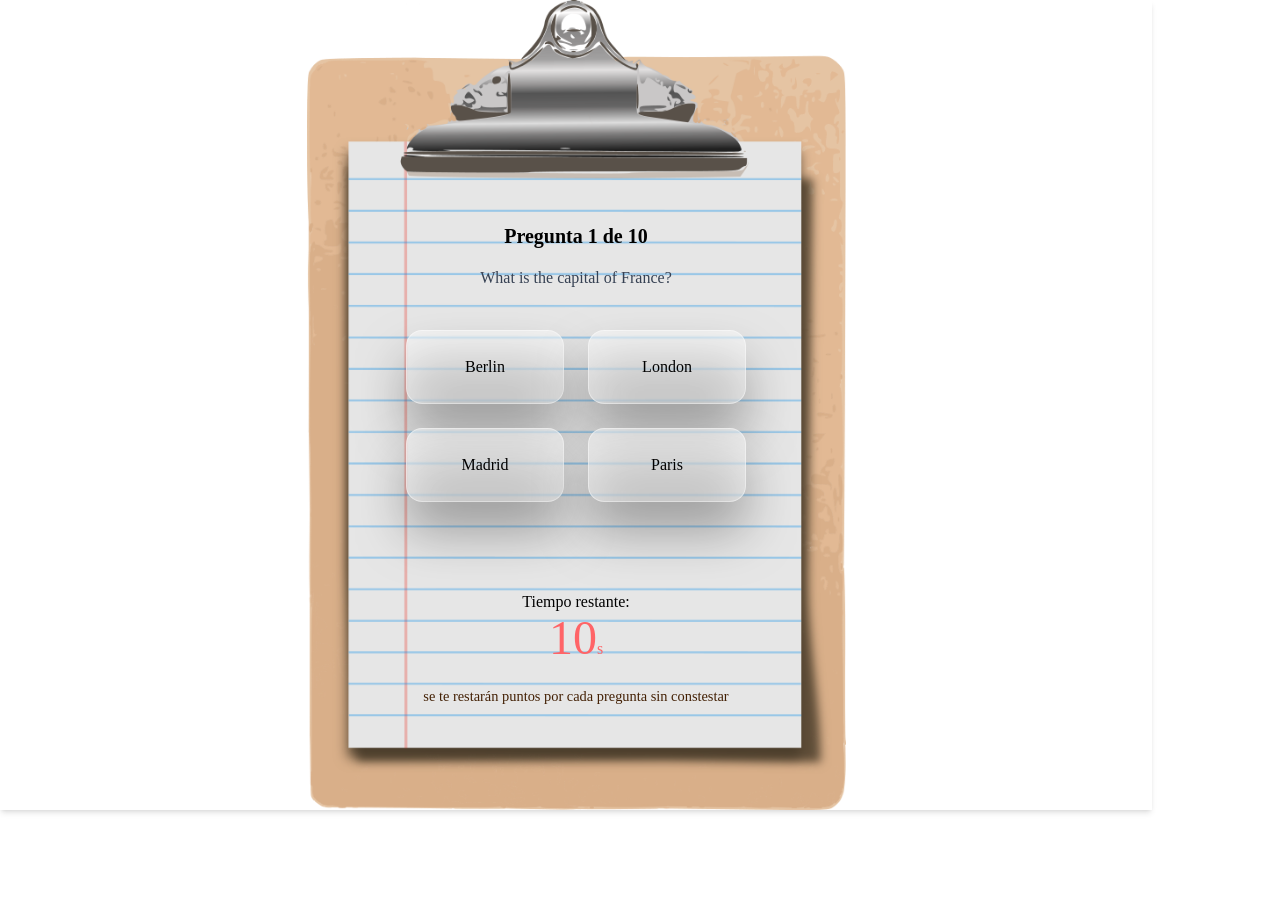
Test: QuizCard › disables buttons after an option is selected
This screenshot has width=1280, height=900.
Click the button "Paris" at (667, 465), box [588,428,746,502]
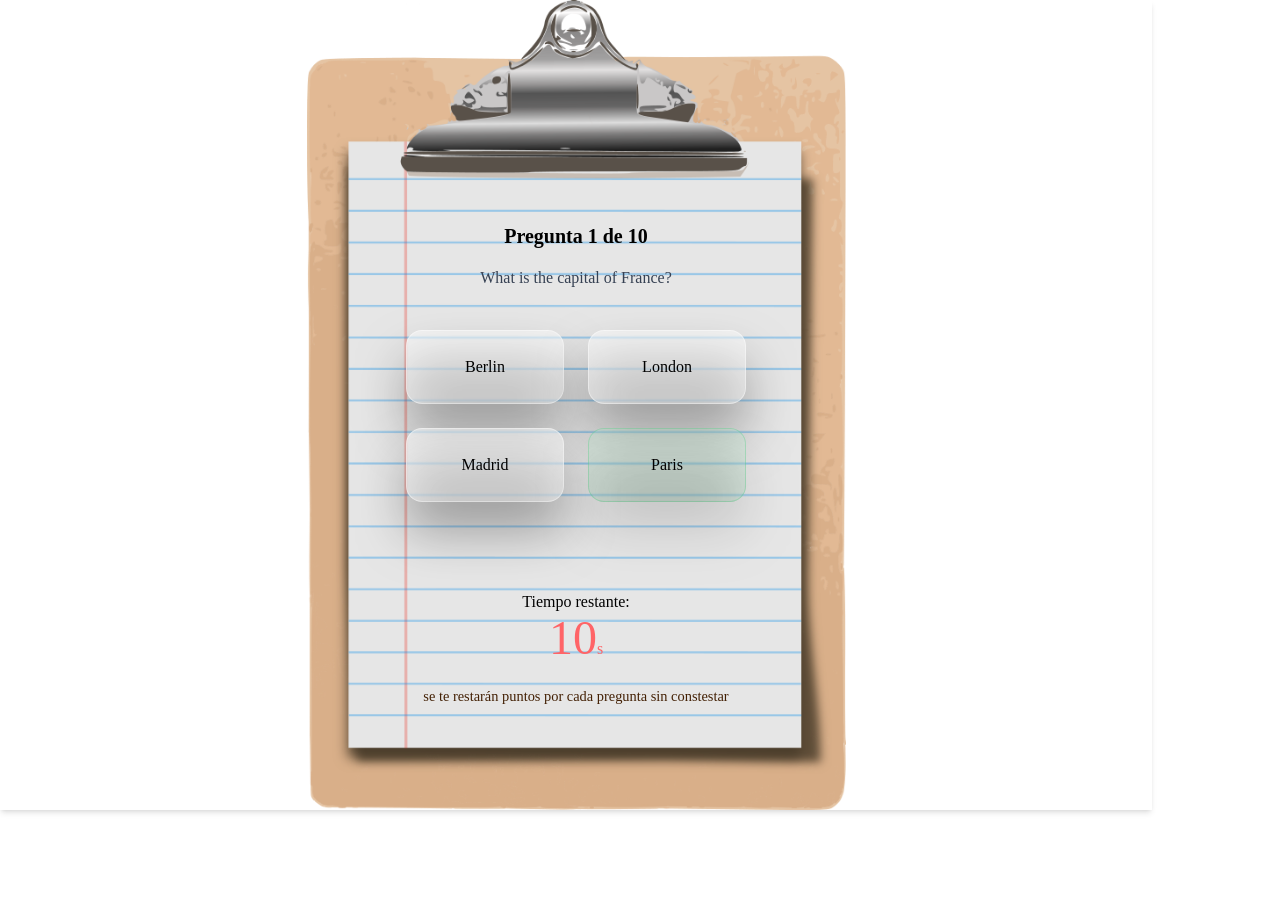
Expected: the button "London" is disabled, [588,330,746,404]
Result: the button "Paris" is disabled at [588,428,746,502]
